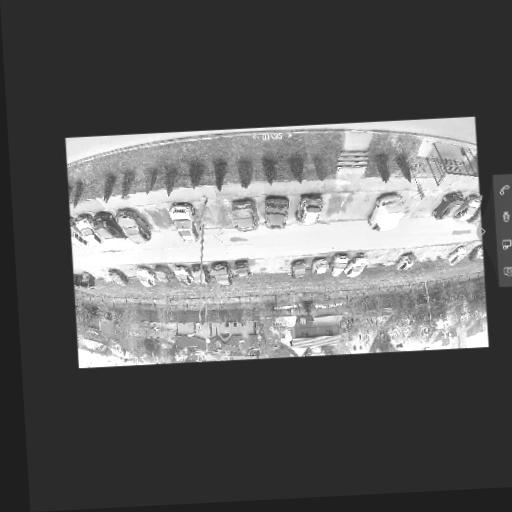busy: (164, 199, 204, 245), (114, 206, 157, 248), (364, 191, 409, 231), (224, 195, 267, 234), (257, 193, 295, 230), (294, 192, 333, 225), (92, 209, 125, 244), (452, 190, 483, 226), (430, 191, 464, 220), (203, 260, 236, 289), (70, 215, 99, 248), (340, 251, 371, 277), (330, 252, 362, 277), (169, 263, 200, 288), (134, 264, 162, 288), (102, 265, 129, 288), (445, 245, 474, 266), (286, 257, 312, 278), (393, 251, 418, 271), (151, 265, 174, 285), (231, 260, 252, 280), (310, 256, 332, 275), (468, 245, 483, 262)
free: (197, 196, 233, 229), (146, 204, 172, 232), (339, 195, 371, 215), (320, 191, 341, 220), (415, 193, 438, 217), (399, 193, 418, 217), (250, 256, 269, 278), (365, 249, 383, 268), (412, 245, 430, 262), (382, 248, 397, 268), (438, 246, 453, 265), (262, 259, 285, 271), (425, 247, 441, 264), (123, 265, 137, 281), (465, 243, 477, 257), (101, 267, 110, 278), (90, 266, 97, 278)
